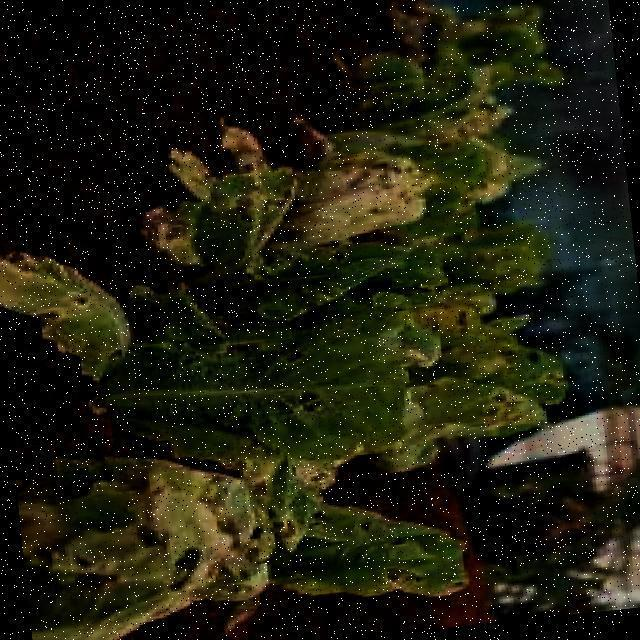Bad: (51, 54, 559, 599)
